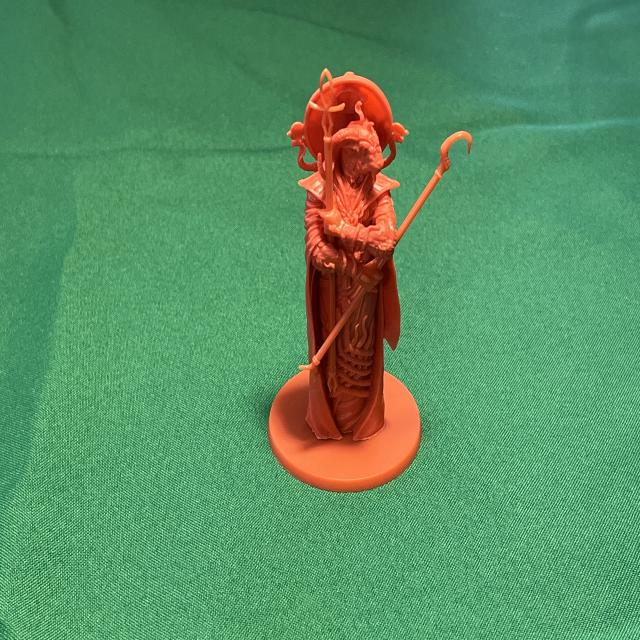amon: (264, 63, 474, 504)
